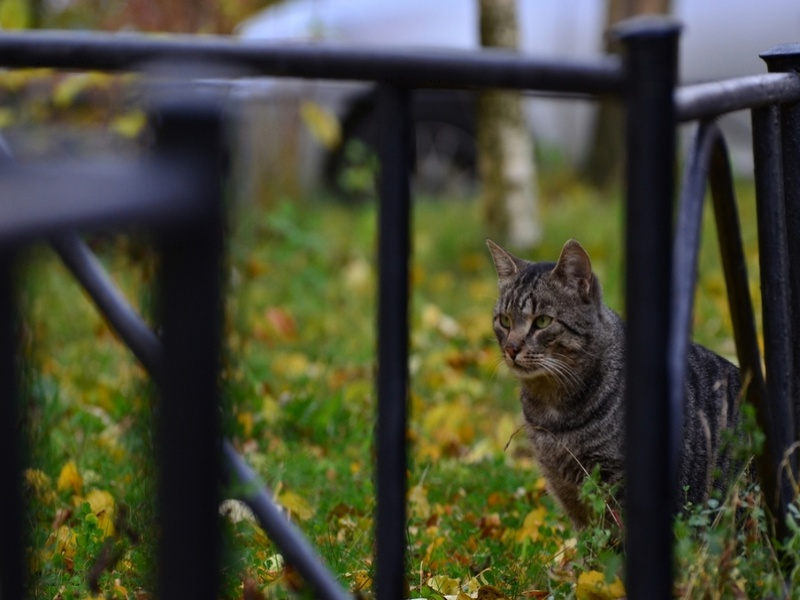cat: (481, 238, 785, 561)
